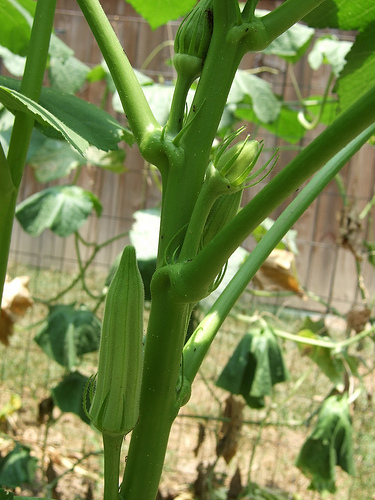okra: (87, 247, 145, 443), (193, 136, 265, 248), (171, 0, 213, 73)
